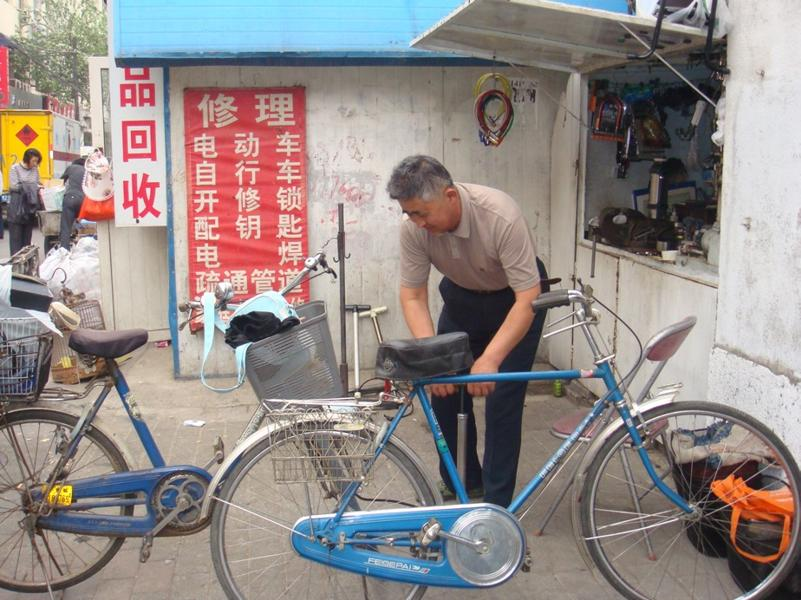person: (388, 154, 552, 508)
